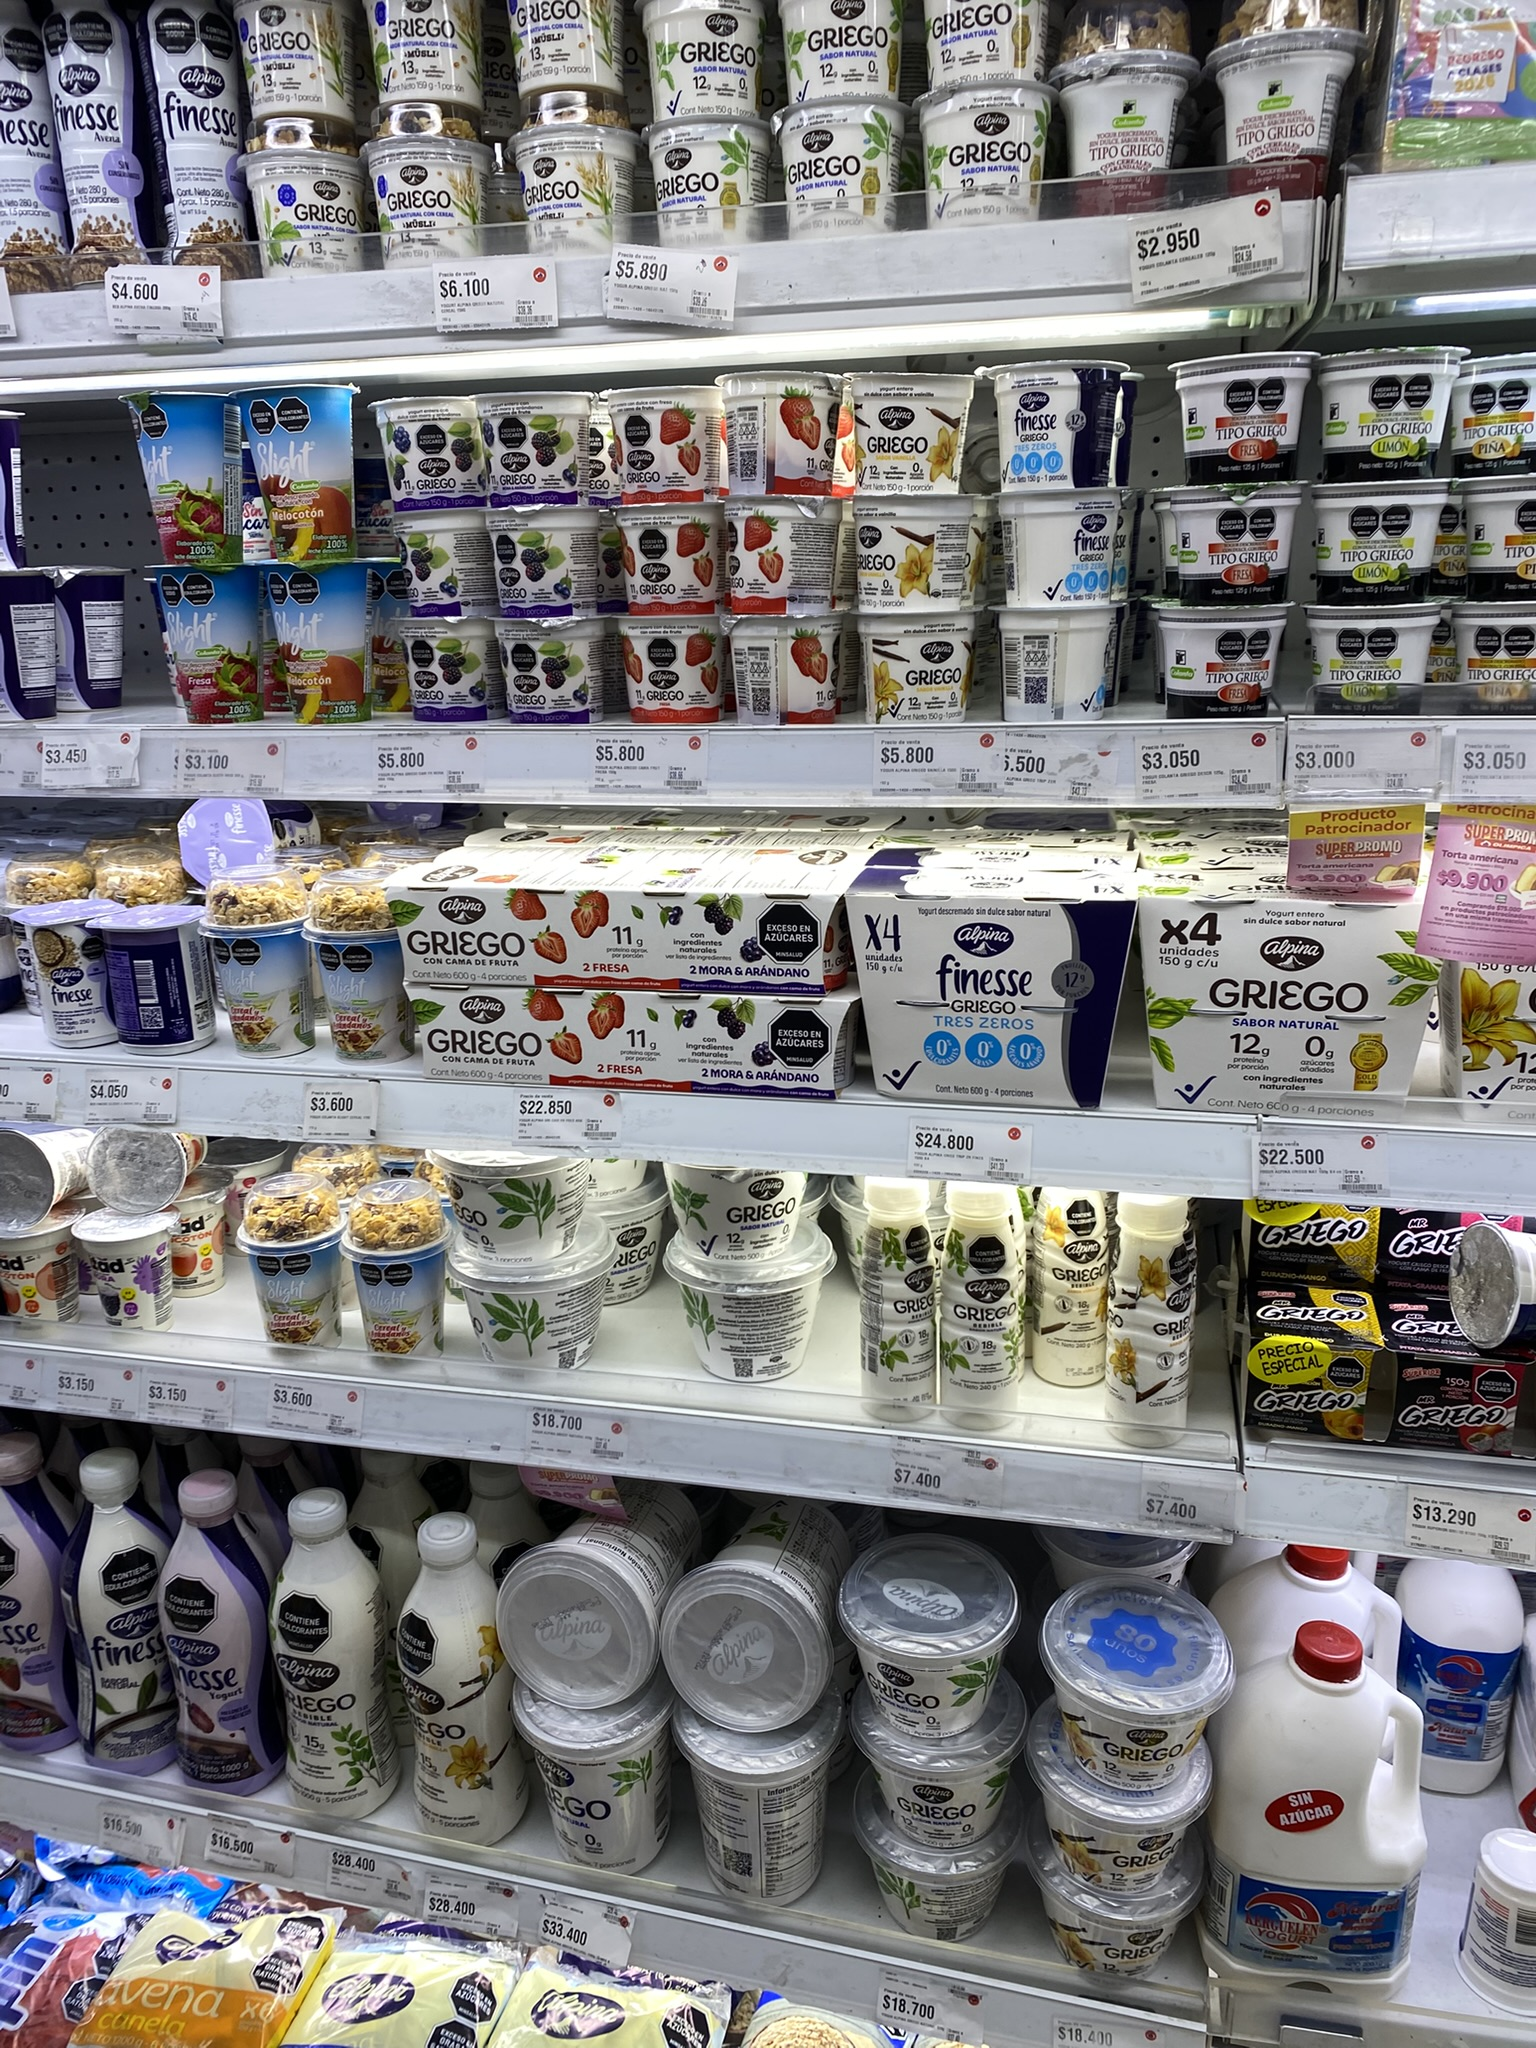Yogurt Griego: (665, 1714, 834, 1913), (826, 1542, 1002, 1730), (508, 1695, 665, 1887), (899, 69, 1084, 231), (461, 1224, 628, 1376), (665, 1235, 837, 1372), (424, 1129, 581, 1261), (862, 1719, 1025, 1838), (626, 103, 768, 239), (863, 1821, 1004, 1953), (649, 1161, 813, 1261), (781, 108, 907, 231), (631, 11, 771, 116), (781, 0, 904, 98), (920, 3, 1055, 71)
